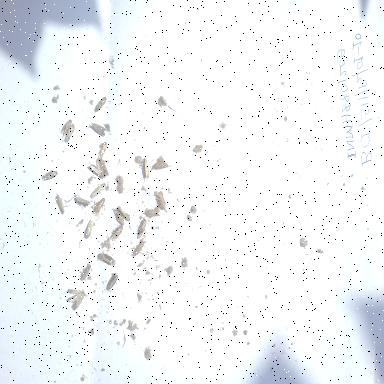pbw: (84, 113, 106, 141), (64, 286, 88, 310), (100, 268, 121, 294), (128, 235, 150, 259), (150, 154, 174, 174), (63, 118, 80, 146), (138, 154, 152, 188), (54, 190, 72, 216), (94, 155, 112, 181), (40, 165, 60, 185), (89, 180, 107, 200), (91, 196, 109, 216), (92, 94, 110, 114), (86, 156, 102, 178), (135, 216, 149, 239), (97, 251, 117, 267), (155, 188, 169, 210), (78, 261, 92, 283), (109, 225, 125, 244), (110, 207, 124, 227), (60, 116, 74, 136), (82, 220, 96, 240), (142, 206, 162, 219), (97, 138, 110, 158), (117, 204, 131, 222), (72, 195, 90, 209)
